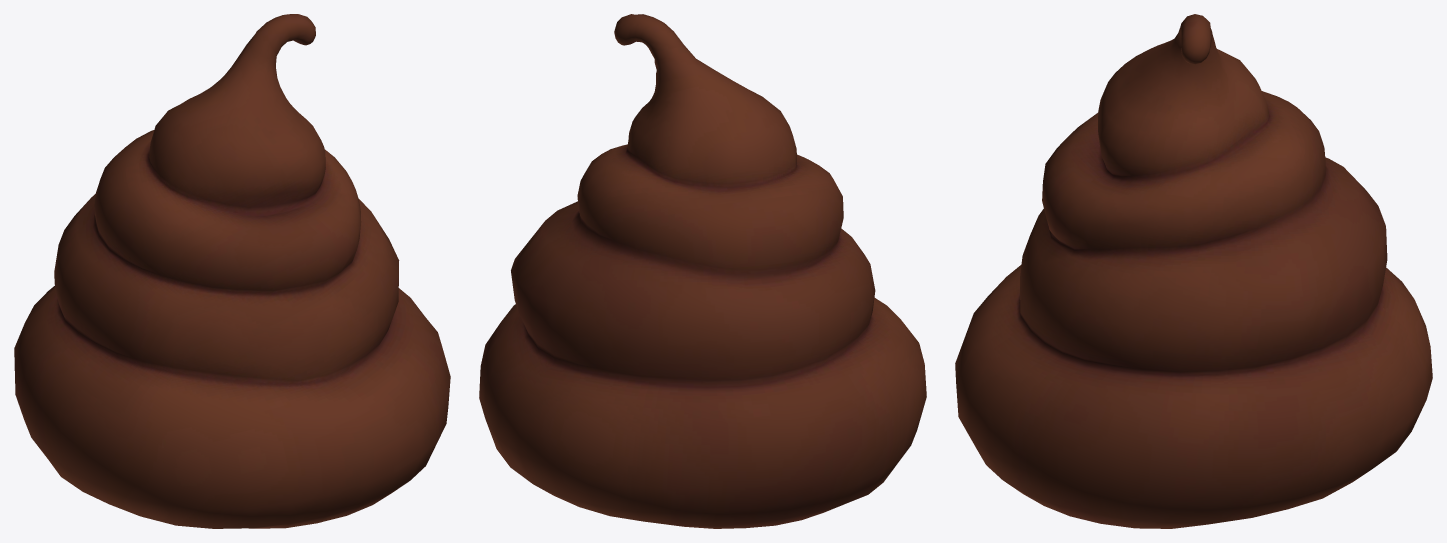
File: poop.glb
3 renders of one model, left to right at view 1: azimuth 30°, elevation 25°; view 2: azimuth 150°, elevation 25°; view 3: azimuth 270°, elevation 25°, orthographic. The views are drawn at different scales.
Visible parts, largest first — view 1: poop_low; view 2: poop_low; view 3: poop_low.
Boxes of the visible parts, bbox=[...] form: poop_low: bbox=[14, 14, 450, 528]; poop_low: bbox=[479, 14, 926, 528]; poop_low: bbox=[955, 14, 1432, 528].
Size of the model in its own units: 0.1503 by 0.1638 by 0.1524.
1 material, 1 textured.
